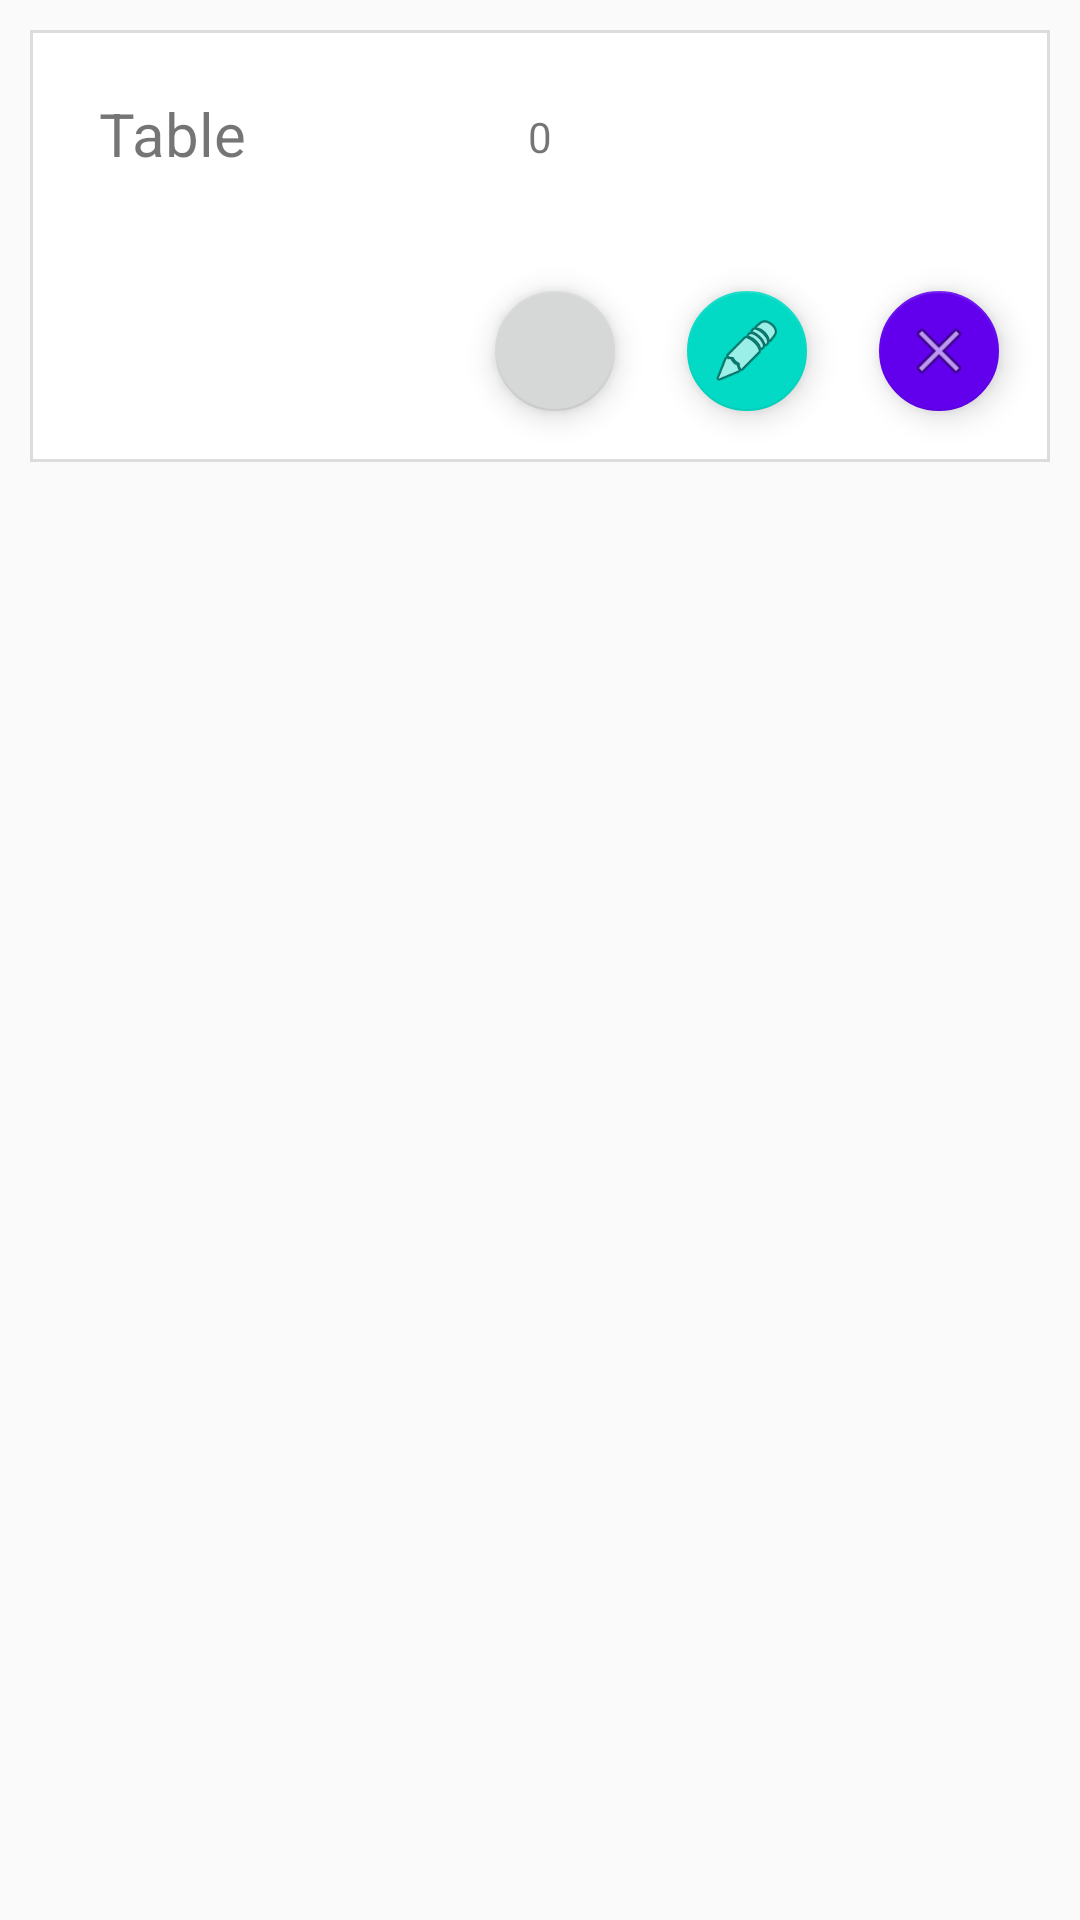

Icon bounding boxes for this 1080w x 1920h phone screenshot, format (left=x1, top=y1, right=x2, bottom=y2):
close clear cancel: (left=879, top=291, right=999, bottom=411)
edit: (left=687, top=291, right=807, bottom=411)
